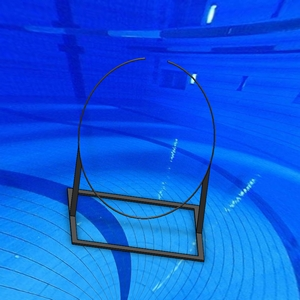circle: (66, 57, 217, 264)
